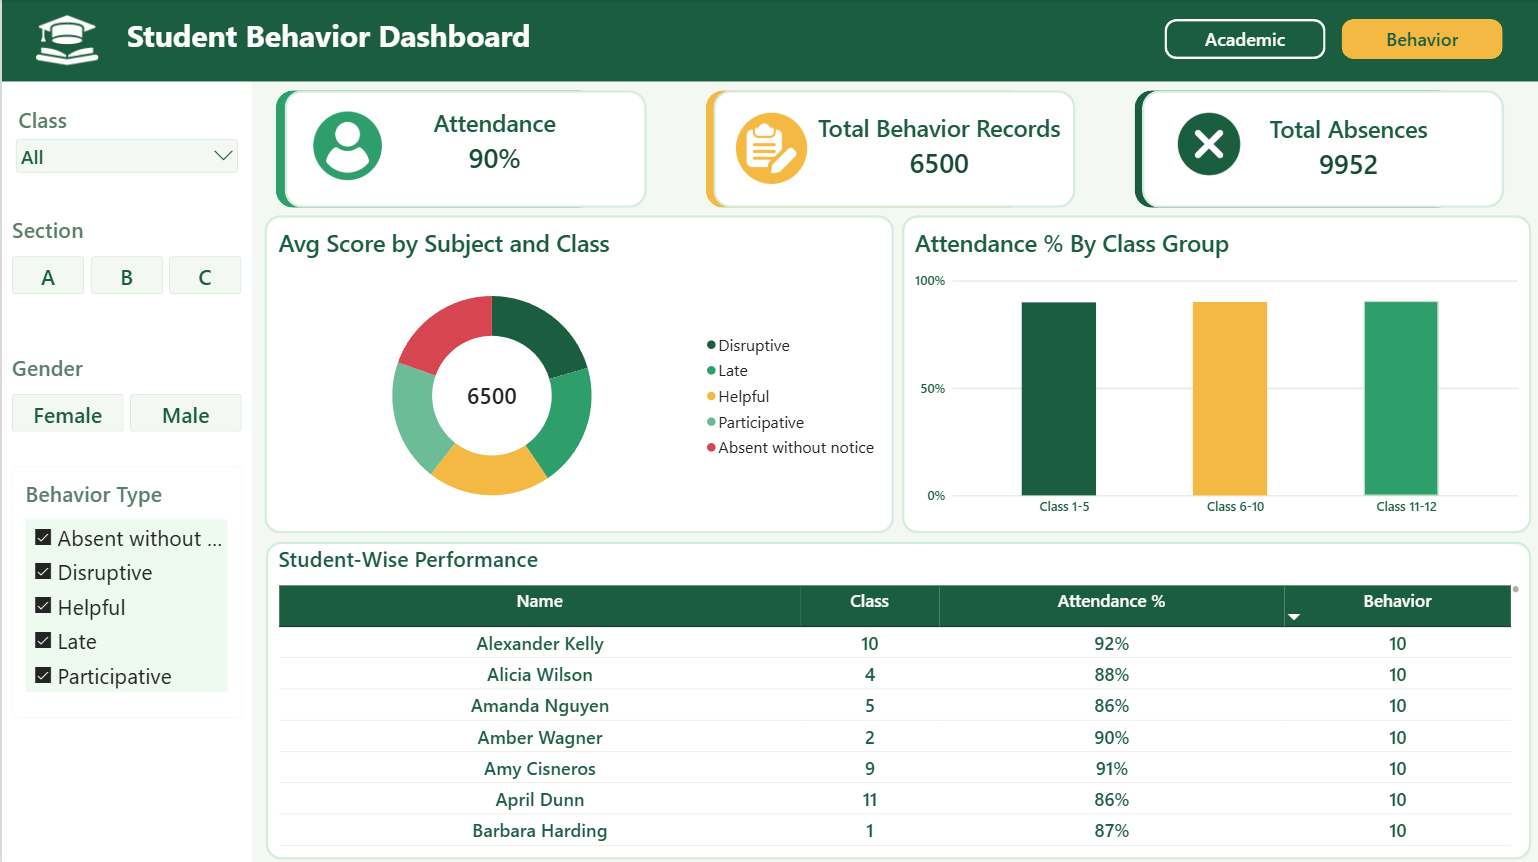

What the dashboard file says about the page in this screenshot:
{"tool":"powerbi","page":{"name":"Behavior","canvas":[1920,1080],"ordinal":1},"visuals":[{"type":"shape","title":"Header","box":[0,0,1920,102.9],"z":0,"group":"g1"},{"type":"shape","box":[341.7,113.5,400,146.7],"z":0,"group":"g2"},{"type":"shape","box":[876.9,113.5,400,146.7],"z":0,"group":"g3"},{"type":"shape","box":[1411.8,113.5,400,146.7],"z":0,"group":"g4"},{"type":"textbox","box":[156.7,20,790,55],"z":1000,"group":"g1"},{"type":"shape","title":"Siderbar","box":[0,85,311.7,995],"z":1000},{"type":"shape","box":[352.4,113.5,451.7,146.7],"z":1000,"group":"g2"},{"type":"shape","box":[886.6,113.5,451.7,146.7],"z":1000,"group":"g3"},{"type":"shape","box":[1421.5,113.5,451.7,146.7],"z":1000,"group":"g4"},{"type":"group","id":"g1","title":"Header","box":[0,0,1920,102.9],"z":2000},{"type":"pageNavigator","box":[1450,25.7,423.3,50],"z":2000,"group":"g1"},{"type":"slicer","fields":{"Values":["Students.Class"]},"box":[12.5,132.5,286.8,90.4],"z":2500},{"type":"advancedSlicerVisual","fields":{"Values":["Students.Section"]},"box":[12.5,269.7,286.8,98.2],"z":2501},{"type":"advancedSlicerVisual","fields":{"Values":["Students.Gender"]},"box":[12.5,441.2,286.8,98.2],"z":2502},{"type":"listSlicer","fields":{"Values":["Behavior.Behavior Type"]},"box":[12.5,583,286.8,313.3],"z":2503},{"type":"group","id":"g2","title":"1st KPI","box":[341.7,113.5,461.7,146.7],"z":2504},{"type":"group","id":"g3","title":"2nd KPI","box":[876.9,113.5,461.3,146.7],"z":2505},{"type":"group","id":"g4","title":"3rd KPI","box":[1411.8,113.5,461.3,146.7],"z":2506},{"type":"cardVisual","fields":{"Data":["Measures_1.Attendance %"]},"box":[475.5,126.3,278.3,103.3],"z":2508},{"type":"cardVisual","fields":{"Data":["Measures_1.Total Behavior Records"]},"box":[999.3,132.5,339.8,102.9],"z":2509},{"type":"image","box":[904.2,141.9,111,88.9],"z":2511},{"type":"image","box":[1450.8,134.8,107.9,93.5],"z":2512},{"type":"cardVisual","fields":{"Data":["Measures_1.Total Absences"]},"box":[1533.5,134.8,291.2,102.5],"z":2513},{"type":"image","box":[386.6,140.3,88.9,85.7],"z":2514},{"type":"shape","box":[1121.7,270,785,396.7],"z":2515},{"type":"shape","box":[328.3,676.7,1578.3,396.7],"z":2516},{"type":"shape","box":[328,270,785,396.7],"z":2517},{"type":"donutChart","title":"Avg Score by Subject and Class ","fields":{"Category":["Behavior.Behavior Type"],"Y":["Measures_1.Total Behavior Records"]},"box":[328.9,269.7,784.1,396],"z":2518},{"type":"clusteredColumnChart","title":"Attendance % By Class Group","fields":{"Category":["Students.Class Group"],"Y":["Measures_1.Attendance %"]},"box":[1122.4,269.7,784.1,396],"z":2519},{"type":"tableEx","title":"Student-Wise Performance","fields":{"Values":["Students.Name","Students.Class","Measures_1.Attendance %","Measures_1.Total Behavior Records"]},"box":[328.9,665.6,1579.2,406.9],"z":2520},{"type":"image","box":[28.1,12.5,106,77.9],"z":2521}]}

Visuals, with their boxes in screenshot pixels (x1, y1, x2, y2), scaled from the page's 1920x1080 canvas onto the 1538x862 screenshot:
"Header" shape: (left=0, top=0, right=1537, bottom=82)
shape: (left=274, top=91, right=594, bottom=208)
shape: (left=702, top=91, right=1023, bottom=208)
shape: (left=1131, top=91, right=1451, bottom=208)
textbox: (left=126, top=16, right=758, bottom=60)
"Siderbar" shape: (left=0, top=68, right=250, bottom=861)
shape: (left=282, top=91, right=644, bottom=208)
shape: (left=710, top=91, right=1072, bottom=208)
shape: (left=1139, top=91, right=1501, bottom=208)
"Header" group: (left=0, top=0, right=1537, bottom=82)
pageNavigator: (left=1162, top=21, right=1501, bottom=60)
slicer - Students.Class: (left=10, top=106, right=240, bottom=178)
advancedSlicerVisual - Students.Section: (left=10, top=215, right=240, bottom=294)
advancedSlicerVisual - Students.Gender: (left=10, top=352, right=240, bottom=431)
listSlicer - Behavior.Behavior Type: (left=10, top=465, right=240, bottom=715)
"1st KPI" group: (left=274, top=91, right=644, bottom=208)
"2nd KPI" group: (left=702, top=91, right=1072, bottom=208)
"3rd KPI" group: (left=1131, top=91, right=1500, bottom=208)
cardVisual - Measures_1.Attendance %: (left=381, top=101, right=604, bottom=183)
cardVisual - Measures_1.Total Behavior Records: (left=800, top=106, right=1073, bottom=188)
image: (left=724, top=113, right=813, bottom=184)
image: (left=1162, top=108, right=1249, bottom=182)
cardVisual - Measures_1.Total Absences: (left=1228, top=108, right=1462, bottom=189)
image: (left=310, top=112, right=381, bottom=180)
shape: (left=899, top=216, right=1527, bottom=532)
shape: (left=263, top=540, right=1527, bottom=857)
shape: (left=263, top=216, right=892, bottom=532)
"Avg Score by Subject and Class " donutChart: (left=263, top=215, right=892, bottom=531)
"Attendance % By Class Group" clusteredColumnChart: (left=899, top=215, right=1527, bottom=531)
"Student-Wise Performance" tableEx: (left=263, top=531, right=1528, bottom=856)
image: (left=23, top=10, right=107, bottom=72)
